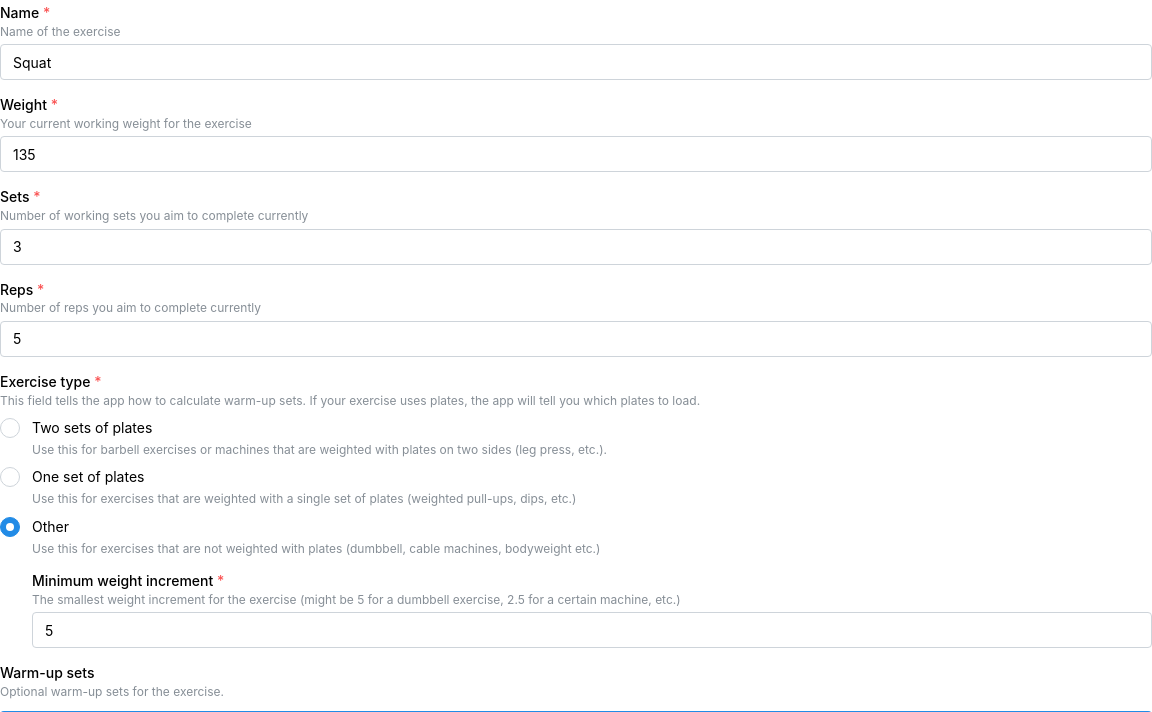
ExerciseForm › exercise type › hides the Minimum weight increment field when a plate type is selected
Click the radio button labelled "Two sets of plates". click: point(10, 428)
box: [0,418,20,438]
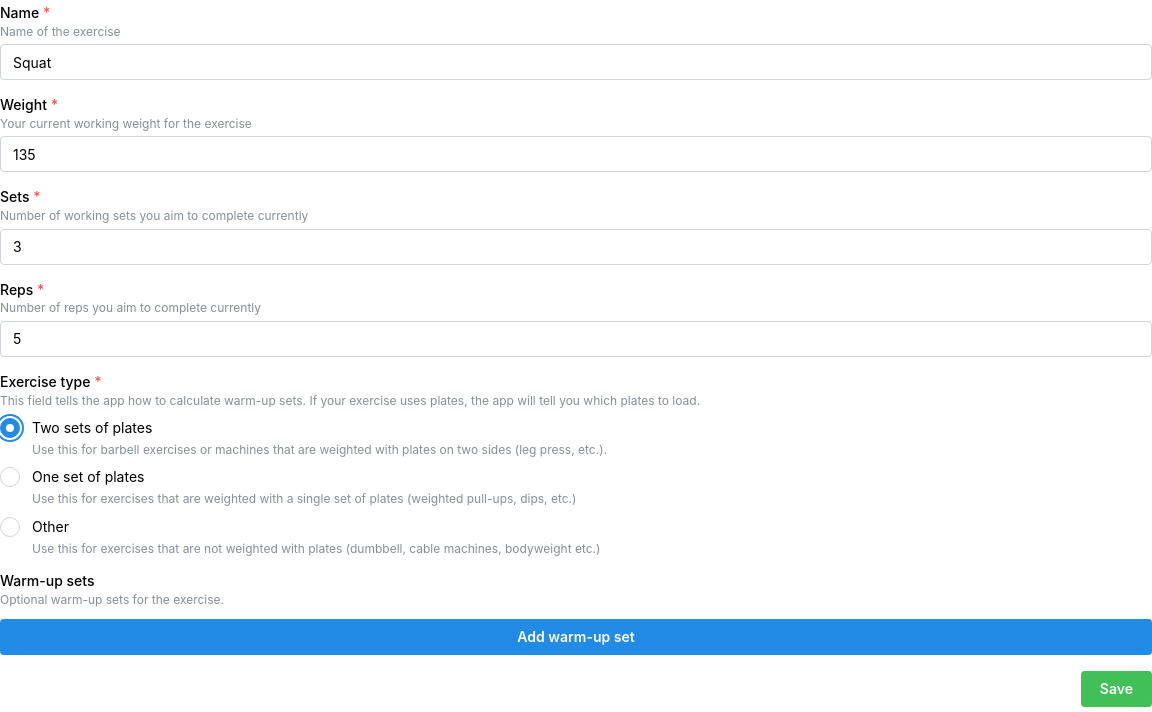
Now the label "Minimum weight increment" is gone
